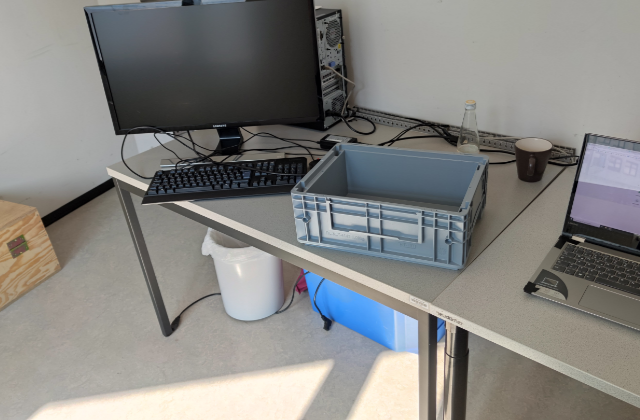Box: (290, 142, 490, 272)
